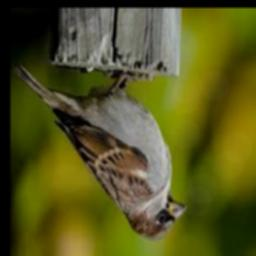Sparrow: (13, 66, 187, 240)
